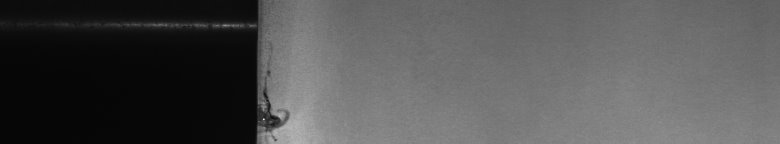hb: (268, 42, 296, 136)
